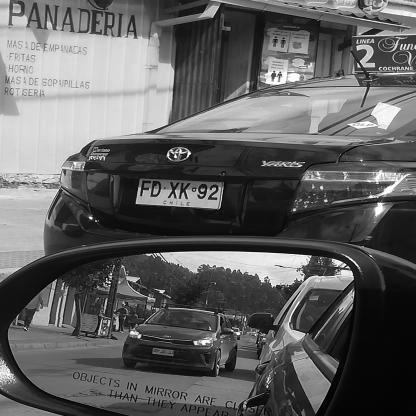Patente: (131, 176, 228, 214)
